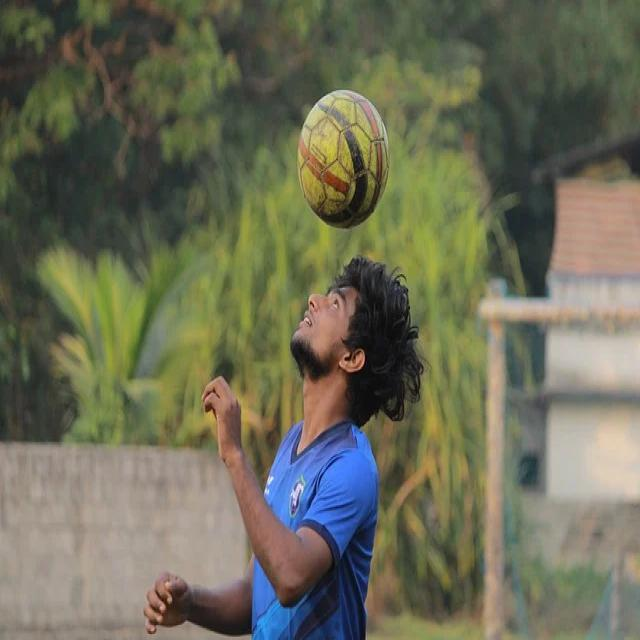Real human 2: (142, 238, 421, 640)
